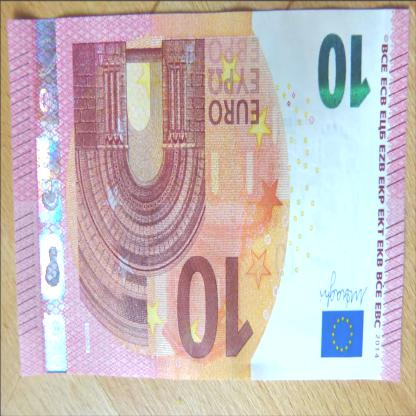euro_banknote: (9, 12, 414, 386)
